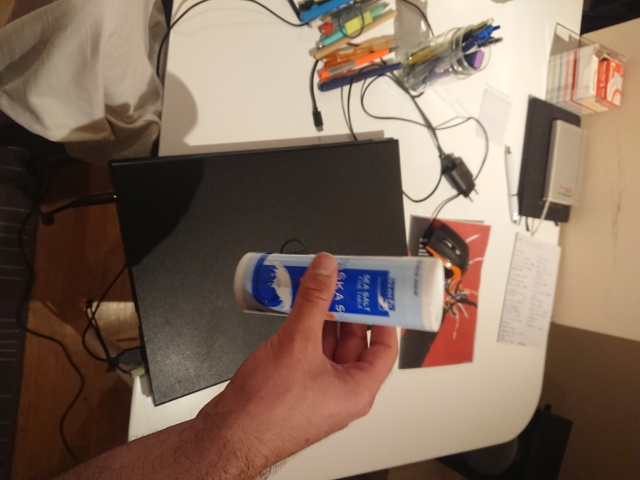Solana Pag Fine Sea Salt 250g: (231, 249, 446, 335)
